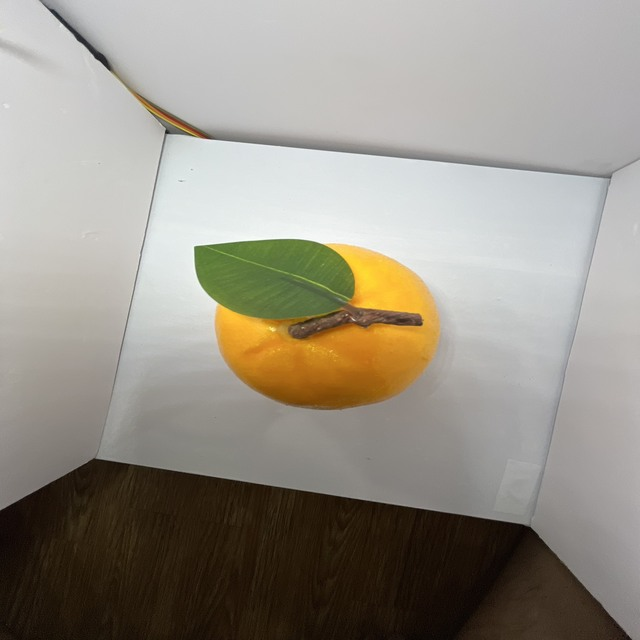Cam vang: (213, 236, 443, 417)
